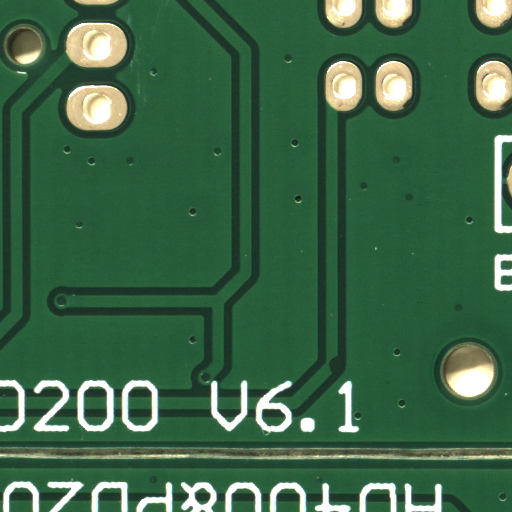Mouse_bite: (335, 365, 348, 383)
